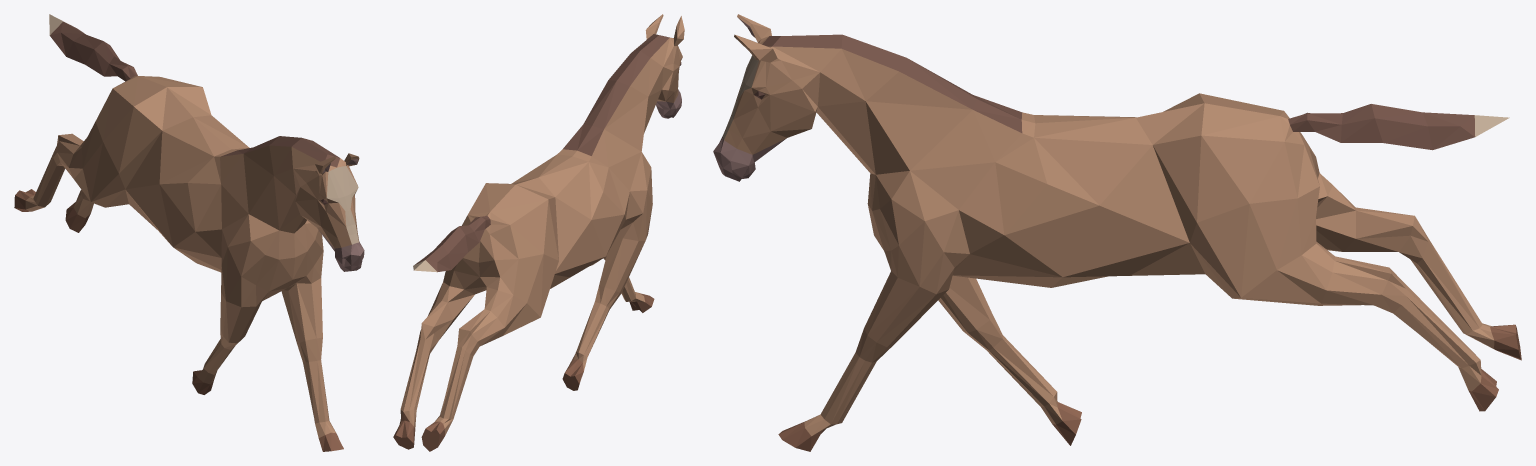
The model's file is Horse.glb.
The picture shows the model from 3 angles, left to right: view 1: azimuth 30°, elevation 25°; view 2: azimuth 150°, elevation 25°; view 3: azimuth 270°, elevation 25°; orthographic projection. The views are drawn at different scales.
Visible parts, largest first — view 1: mesh_0; view 2: mesh_0; view 3: mesh_0.
Boxes of the visible parts, left/top/right/bottom form: mesh_0: left=14, top=14, right=364, bottom=451; mesh_0: left=393, top=14, right=684, bottom=451; mesh_0: left=713, top=14, right=1521, bottom=451.
Bounding box in the file's own units: 63.47 × 181 × 305.
